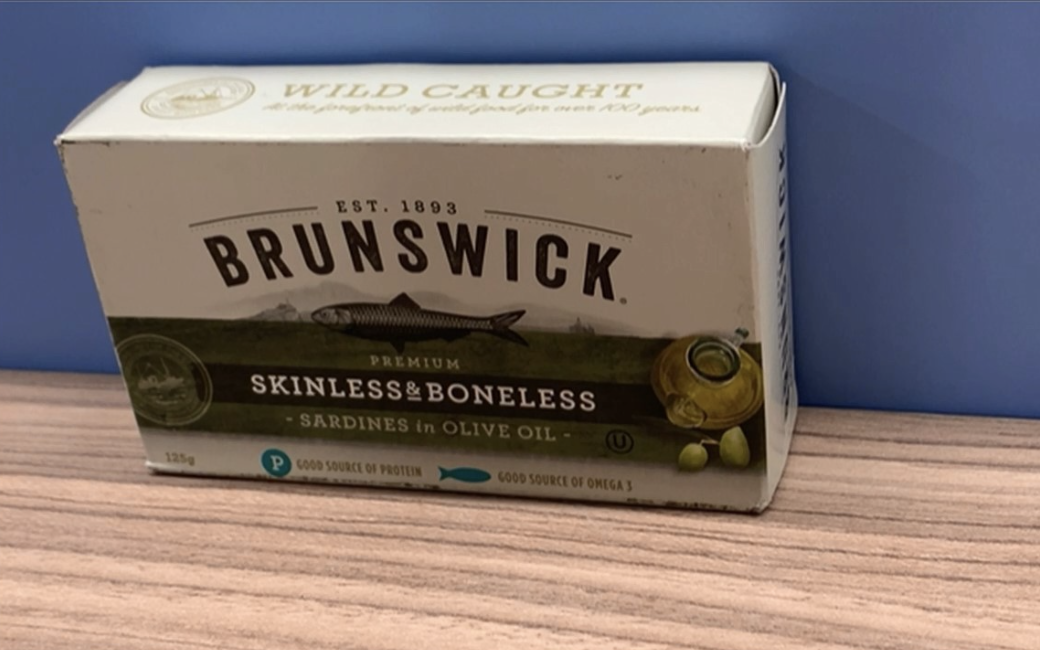sardines_150g: (123, 87, 761, 494)
